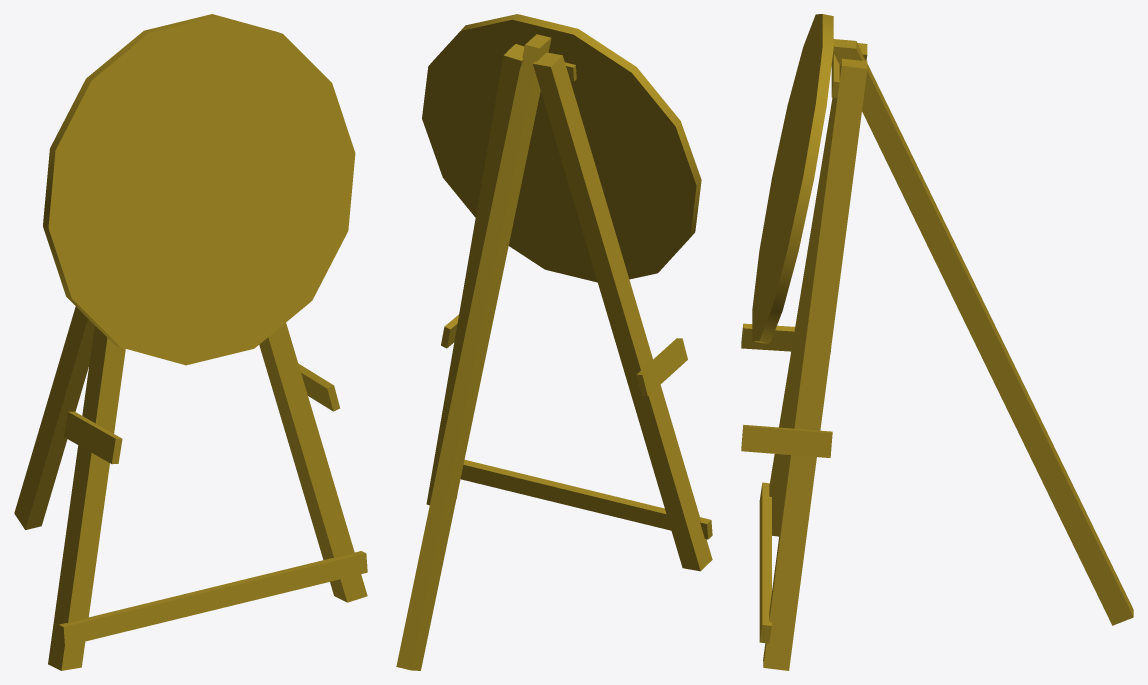
Rendered from BlancoSeminarioGolpe.fbx.
3 renders of one model, left to right at view 1: azimuth 30°, elevation 25°; view 2: azimuth 150°, elevation 25°; view 3: azimuth 270°, elevation 25°, orthographic. The views are drawn at different scales.
Visible parts, largest first — view 1: pCylinder2, polySurface3, polySurface2, pCube2, pCube3, polySurface5, polySurface6; view 2: pCylinder2, polySurface3, pCube3, polySurface2, pCube2, polySurface5; view 3: pCube3, polySurface2, pCylinder2, polySurface3, polySurface6, pCube2, polySurface5.
Boxes of the visible parts, <box> form: pCylinder2: <box>43,14,355,365</box>; polySurface3: <box>48,325,125,670</box>; polySurface2: <box>259,323,367,602</box>; pCube2: <box>58,551,367,646</box>; pCube3: <box>14,306,94,529</box>; polySurface5: <box>64,411,122,464</box>; polySurface6: <box>298,363,339,411</box>; pCylinder2: <box>422,14,701,282</box>; polySurface3: <box>533,52,712,571</box>; pCube3: <box>396,34,551,670</box>; polySurface2: <box>426,44,524,505</box>; pCube2: <box>460,460,712,539</box>; polySurface5: <box>636,338,687,395</box>; pCube3: <box>833,39,1133,625</box>; polySurface2: <box>763,58,867,670</box>; pCylinder2: <box>752,14,833,343</box>; polySurface3: <box>769,43,867,536</box>; polySurface6: <box>741,424,832,457</box>; pCube2: <box>759,482,771,643</box>; polySurface5: <box>741,323,831,353</box>.
Bounding box in the file's own units: 2 × 3.82 × 2.3.
